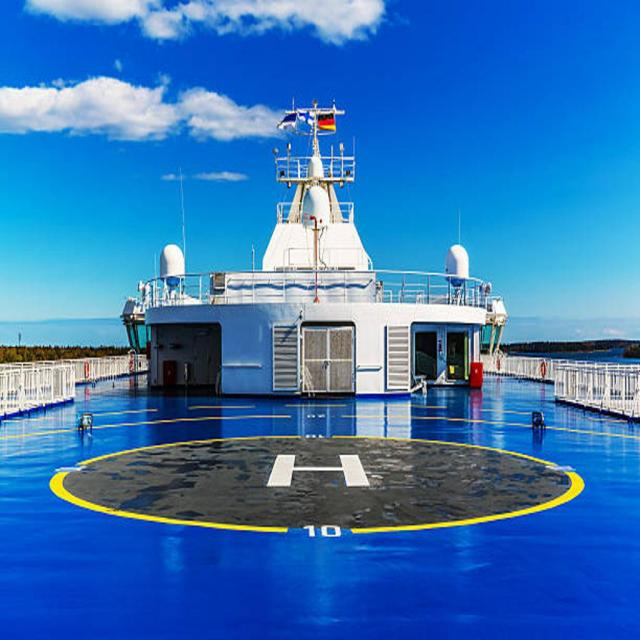helipad: (47, 434, 584, 534)
